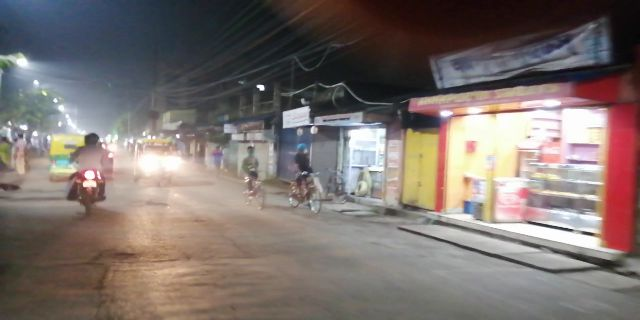Autorickshaw: (141, 141, 181, 187)
Cycle: (283, 144, 332, 216), (235, 143, 270, 215)
Motorbike: (71, 132, 106, 214)
